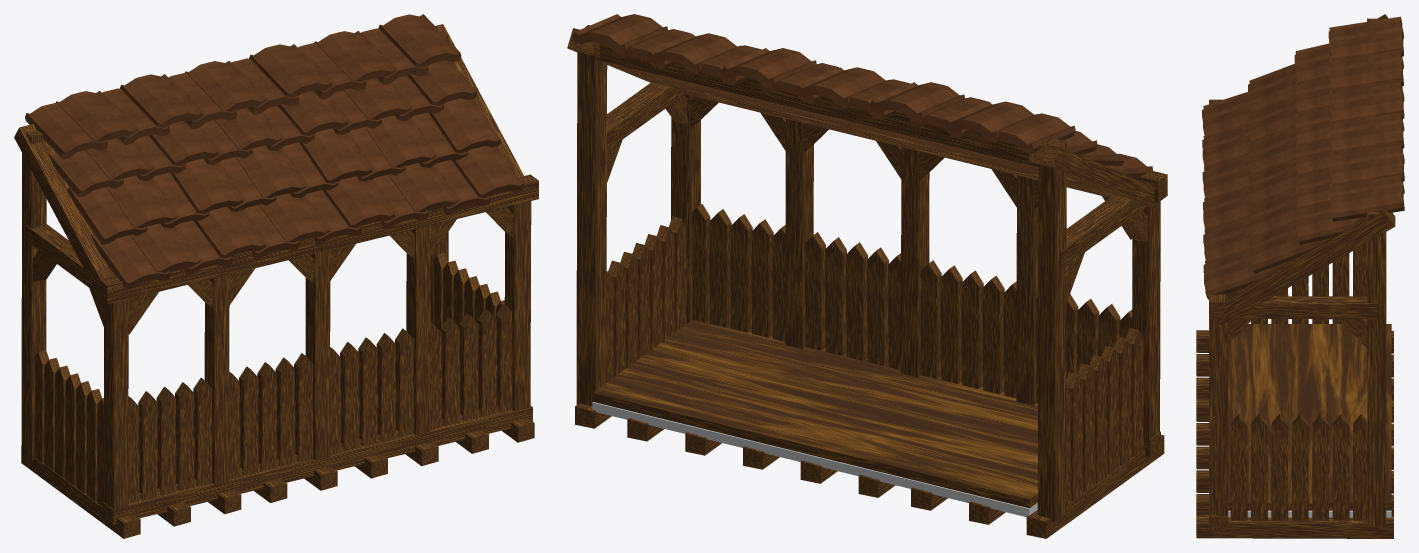
Rendered from Balcony.fbx.
3 views of the same model, side by side, from view 1: azimuth 30°, elevation 25°; view 2: azimuth 150°, elevation 25°; view 3: azimuth 270°, elevation 25° (orthographic). The views are drawn at different scales.
Visible parts, largest first — view 1: Cube.009; view 2: Cube.009; view 3: Cube.009.
Boxes of the visible parts, box(x1,y1,x2,y2) form: Cube.009: box(14, 14, 538, 538); Cube.009: box(567, 14, 1167, 538); Cube.009: box(1196, 14, 1404, 538).
Size of the model in its own units: 409 by 941 by 738.
